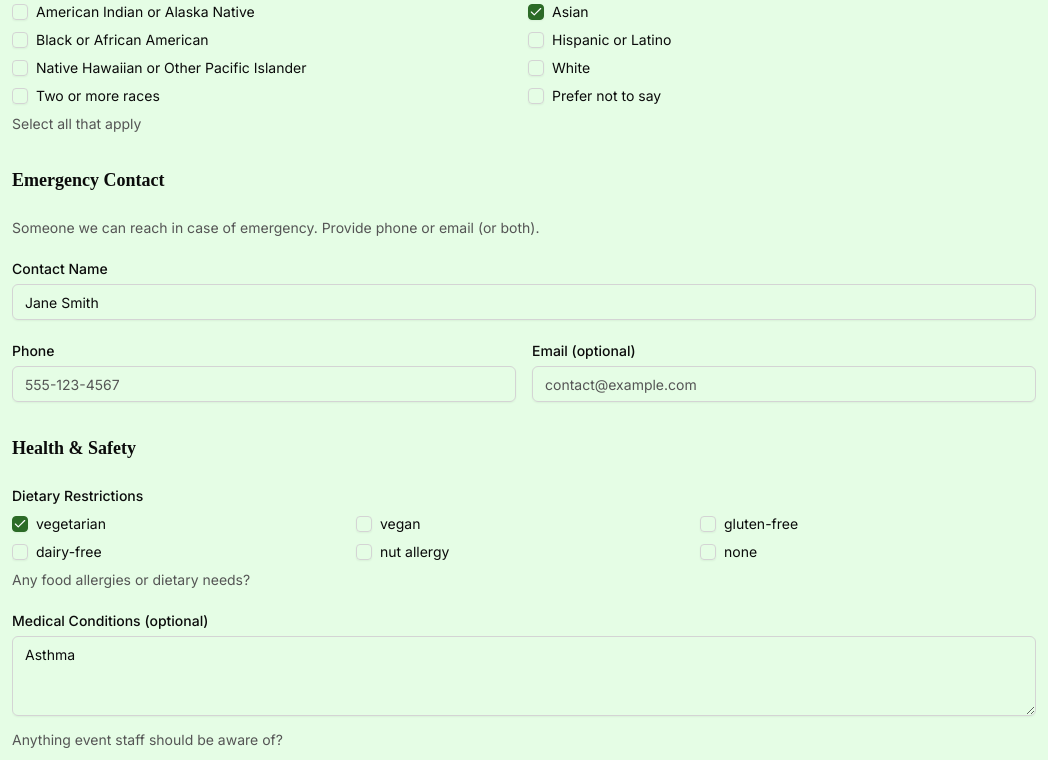
Test case: ProfileSettingsForm › validation › should require phone or email when emergency contact name is provided
This screenshot has width=1048, height=760.
(page scrolled)
Click the field with test id "profile-emergency-phone-input".
click(264, 384)  # box x1=12 y1=366 x2=516 y2=402
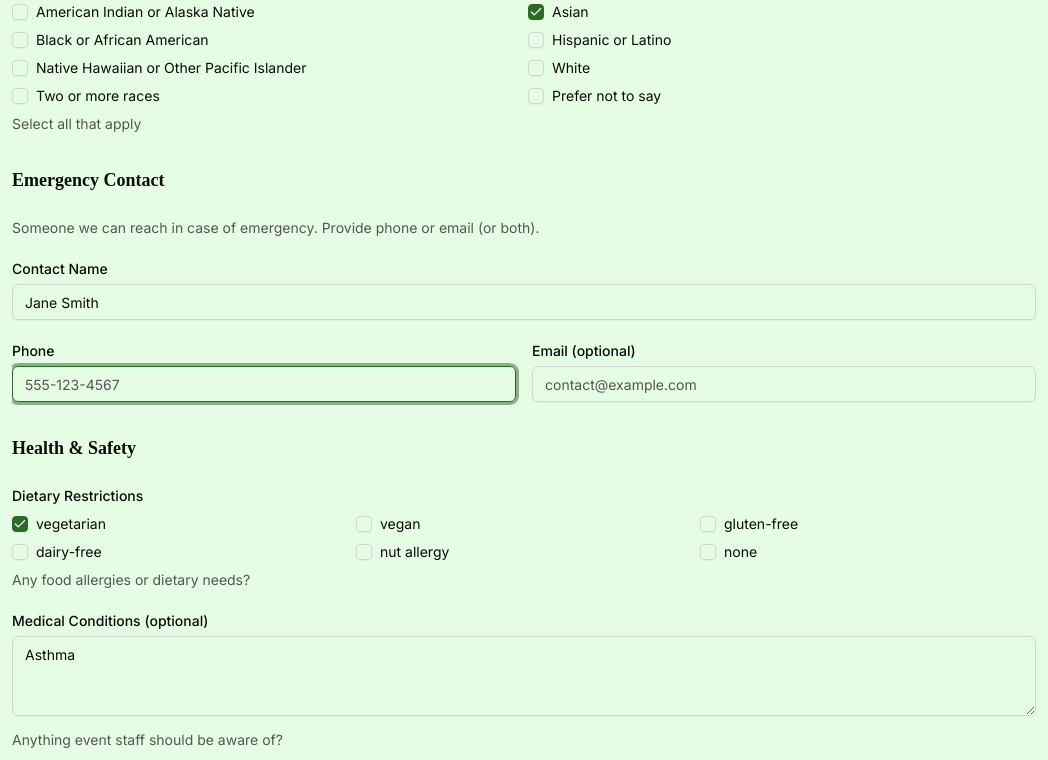
Press Tab
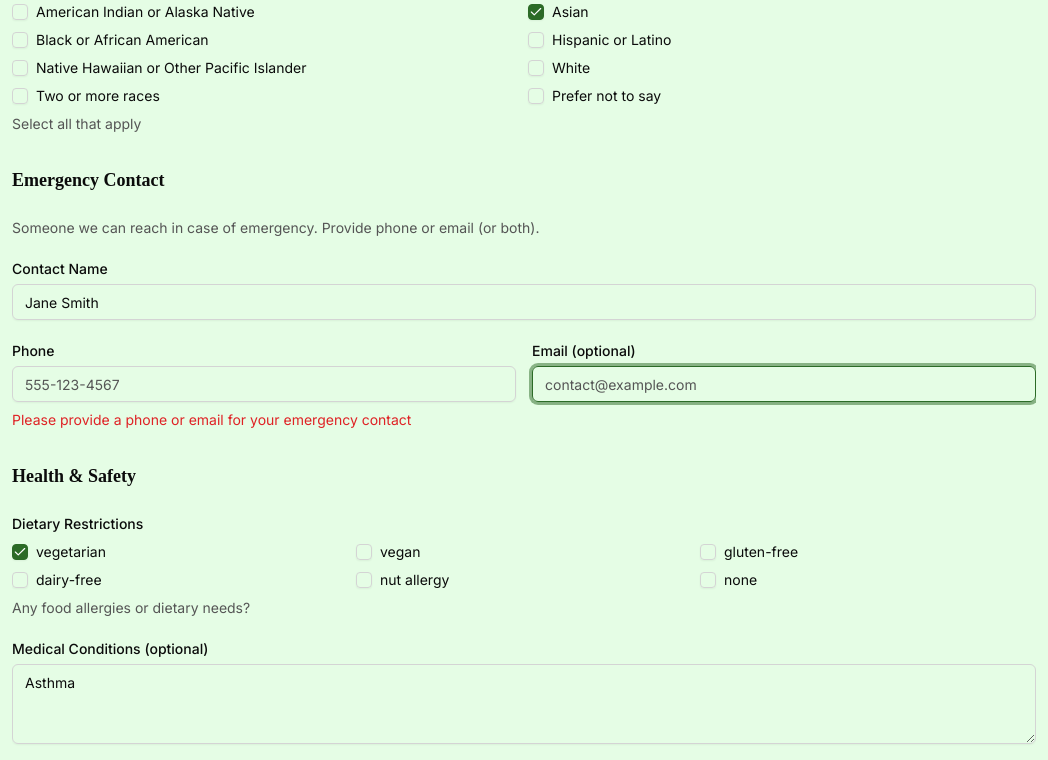
Check: the text "Please provide a phone or email for your emergency contact" is shown, box x1=12 y1=411 x2=412 y2=428
